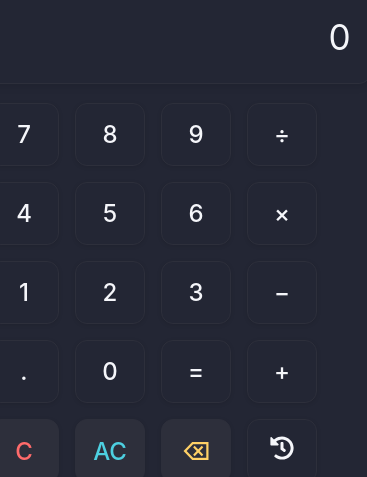
Test: Calculator › performs division
Click the button "8". click: (110, 135)
box: left=75, top=103, right=145, bottom=166
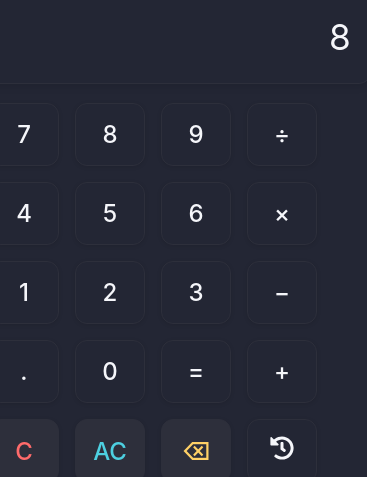
Click the button "÷". click: (282, 135)
box: left=247, top=103, right=317, bottom=166
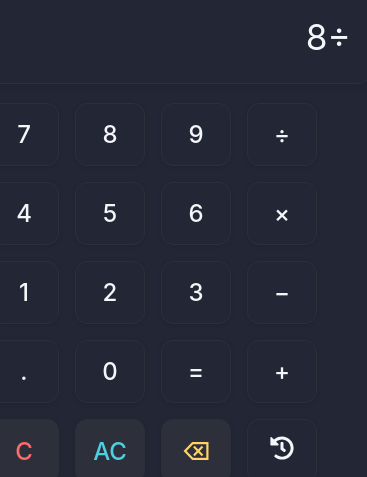
Click the button "2". click: (110, 293)
box: left=75, top=261, right=145, bottom=324
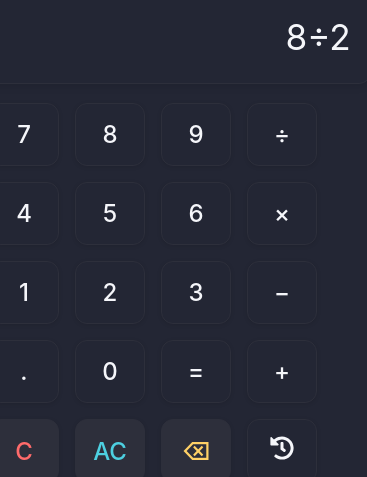
Click the button "=". click: (196, 372)
box: left=161, top=340, right=231, bottom=403
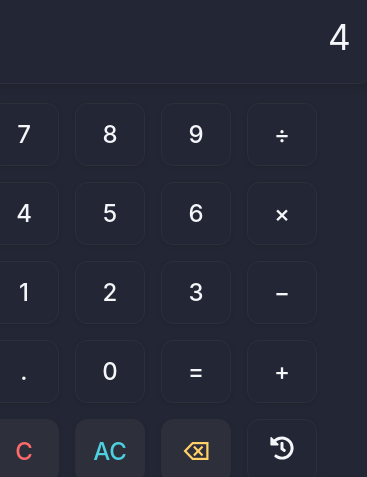
Expected: the text named "display" reads "4", left=328, top=16, right=351, bottom=58
